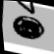correct: (9, 12, 49, 46)
